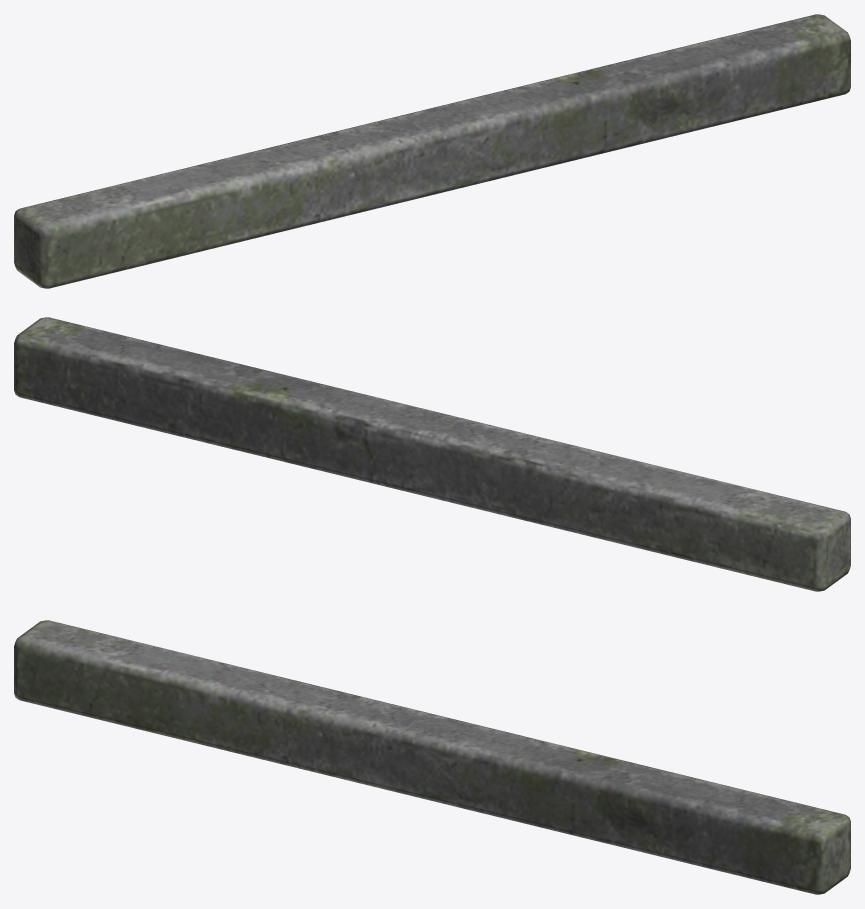
The model's file is Сurbstone_01.fbx.
3 views of the same model, one above another, from view 1: azimuth 30°, elevation 25°; view 2: azimuth 150°, elevation 25°; view 3: azimuth 330°, elevation 25° (orthographic).
Visible parts, largest first — view 1: Сurbstone_01_LOD0; view 2: Сurbstone_01_LOD0; view 3: Сurbstone_01_LOD0.
Part boxes in pixels (x1,y1,x2,y2): Сurbstone_01_LOD0: [14, 14, 850, 288]; Сurbstone_01_LOD0: [14, 317, 850, 591]; Сurbstone_01_LOD0: [14, 620, 850, 894].
Size of what is drawn, in the model's own units: 200 by 14.83 by 13.75.
